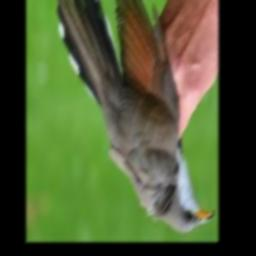Cuckoo: (56, 0, 215, 233)
